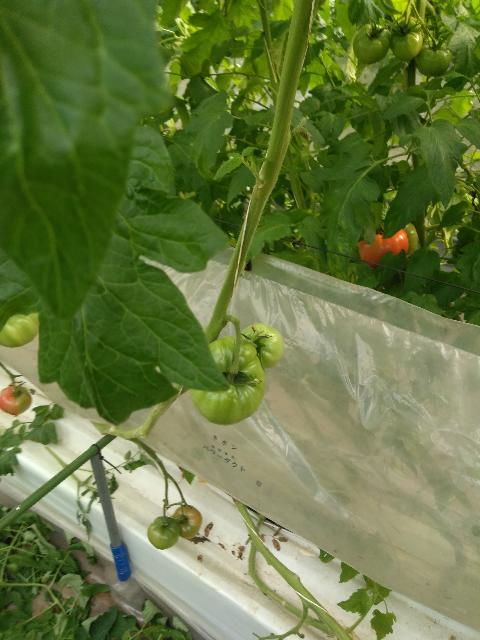b_green: (190, 336, 266, 426), (240, 322, 285, 370), (352, 23, 390, 65), (390, 17, 424, 62), (416, 40, 452, 78), (0, 313, 39, 348), (147, 516, 180, 550)
b_half_ripened: (357, 223, 409, 269), (171, 505, 202, 540), (0, 385, 32, 416)
